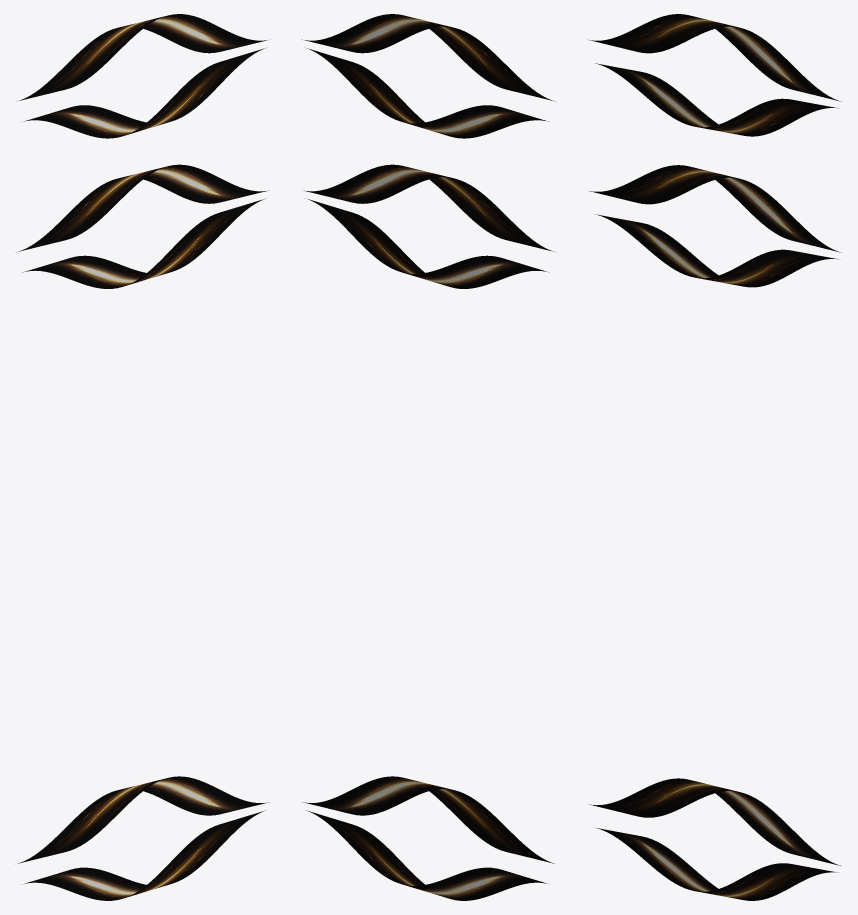
File: MainTopDlg.fbx
3 renders of one model, left to right at view 1: azimuth 30°, elevation 25°; view 2: azimuth 150°, elevation 25°; view 3: azimuth 330°, elevation 25°, orthographic.
Parts seen in each view (by area): view 1: FX_Helix02 (×3), FX_Helix01 (×3); view 2: FX_Helix02 (×3), FX_Helix01 (×3); view 3: FX_Helix02 (×3), FX_Helix01 (×3).
Part boxes in pixels (x1,y1,x2,y2): FX_Helix02 (×3): [16, 14, 269, 863]; FX_Helix01 (×3): [23, 48, 266, 900]; FX_Helix02 (×3): [302, 14, 555, 863]; FX_Helix01 (×3): [306, 48, 548, 900]; FX_Helix02 (×3): [589, 14, 841, 866]; FX_Helix01 (×3): [594, 63, 839, 900].
Size of the model in its own units: 229 by 741 by 0.3454.
